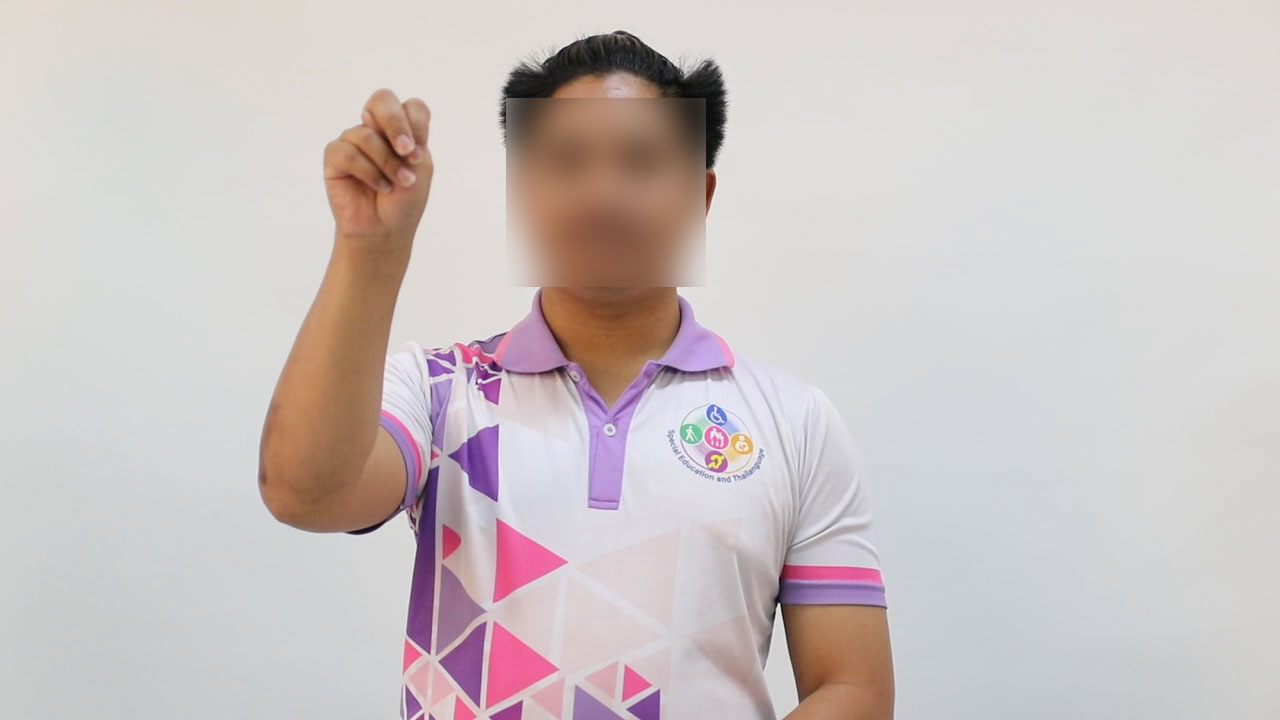nor: (308, 82, 453, 243)
